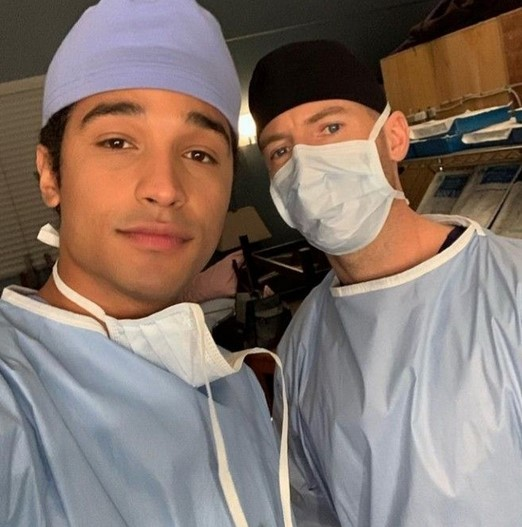face_with_mask: (33, 2, 253, 389), (254, 46, 410, 259)
